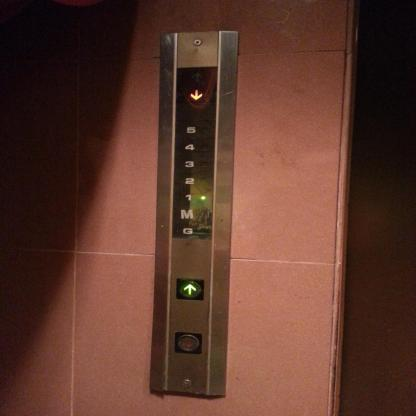down: (173, 330, 203, 356)
led: (170, 64, 219, 240)
up: (175, 275, 205, 302)
